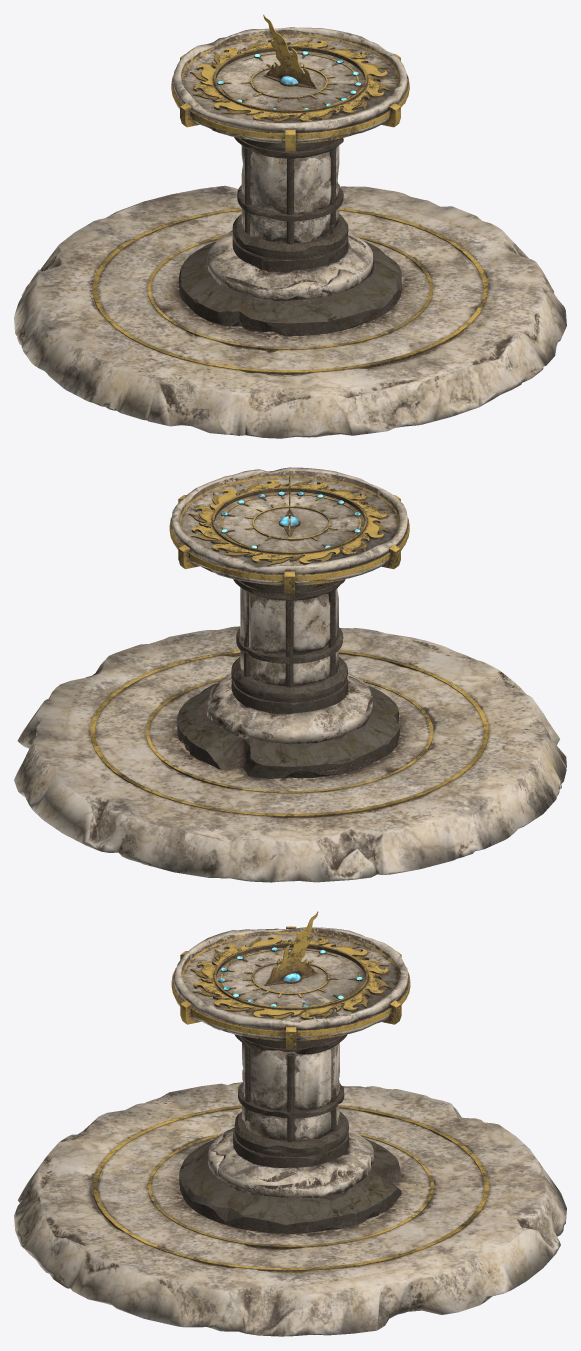
The model's file is Sundialfix.fbx.
The picture shows the model from 3 angles, top to bottom: view 1: azimuth 30°, elevation 25°; view 2: azimuth 150°, elevation 25°; view 3: azimuth 270°, elevation 25°; orthographic projection.
Parts seen in each view (by area): view 1: Sundial01, Sundial02, TurningThing; view 2: Sundial01, Sundial02, TurningThing; view 3: Sundial01, TurningThing, Sundial02.
Boxes of the visible parts, x1,y1,x2,y2 form: Sundial01: [14, 27, 566, 438]; Sundial02: [179, 137, 401, 336]; TurningThing: [92, 14, 488, 374]; Sundial01: [14, 467, 566, 882]; Sundial02: [177, 579, 400, 778]; TurningThing: [90, 475, 488, 817]; Sundial01: [14, 927, 566, 1336]; TurningThing: [92, 911, 489, 1271]; Sundial02: [179, 1034, 401, 1233].
Size of the model in its own units: 2.2 by 1.33 by 2.2.
Materials: 3 (3 with a texture image).
